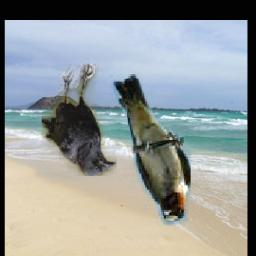Crow: (43, 64, 118, 176)
Swallow: (109, 75, 191, 226)
